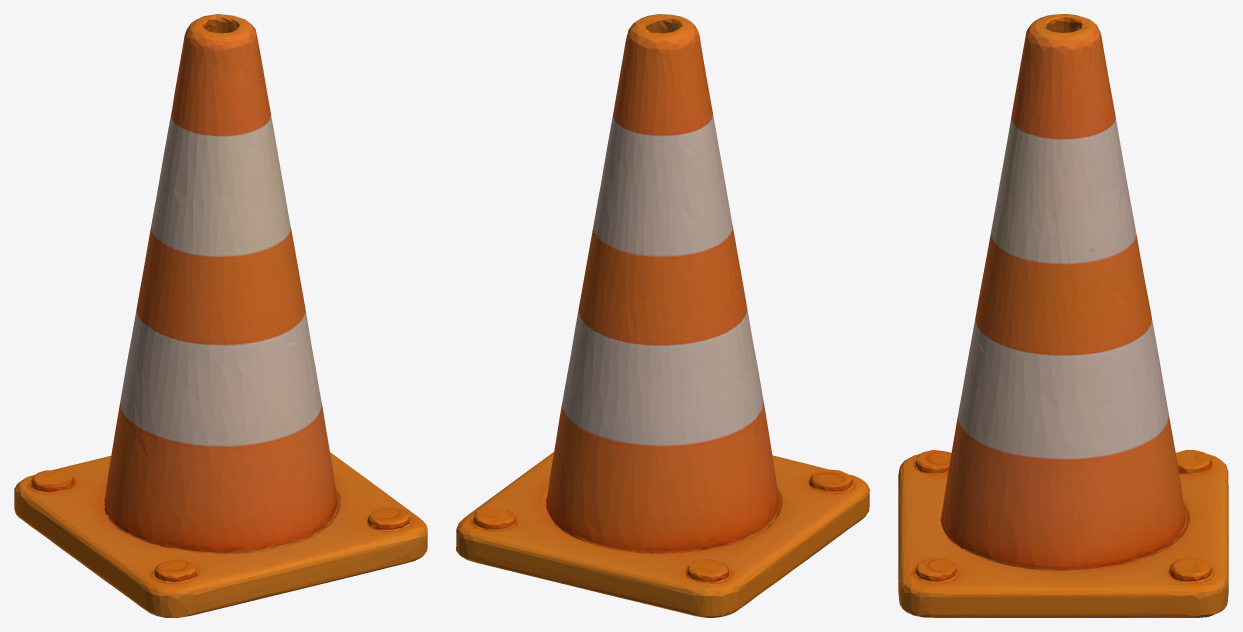
The picture shows the model from 3 angles, left to right: view 1: azimuth 30°, elevation 25°; view 2: azimuth 150°, elevation 25°; view 3: azimuth 270°, elevation 25°; orthographic projection. The views are drawn at different scales.
Visible parts, largest first — view 1: 0_1234_30_5.0_384_8000.obj; view 2: 0_1234_30_5.0_384_8000.obj; view 3: 0_1234_30_5.0_384_8000.obj.
Part boxes in pixels (x1,y1,x2,y2): 0_1234_30_5.0_384_8000.obj: (14, 14, 427, 617); 0_1234_30_5.0_384_8000.obj: (456, 14, 869, 617); 0_1234_30_5.0_384_8000.obj: (898, 14, 1228, 617).
Size of the model in its own units: 1.14 by 2 by 1.14.
1 material, 1 textured.
